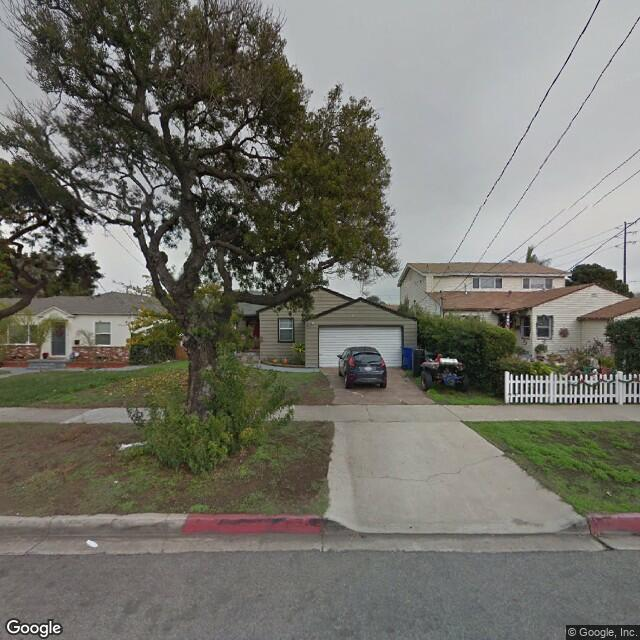litter: (119, 436, 147, 450), (84, 538, 100, 550)
